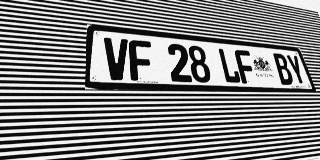2: (167, 43, 192, 82)
8: (187, 45, 212, 83)
B: (272, 53, 295, 85)
F: (128, 39, 154, 81), (234, 49, 258, 84)
L: (217, 48, 242, 83)
V: (104, 37, 130, 80)
Y: (285, 54, 308, 85)
